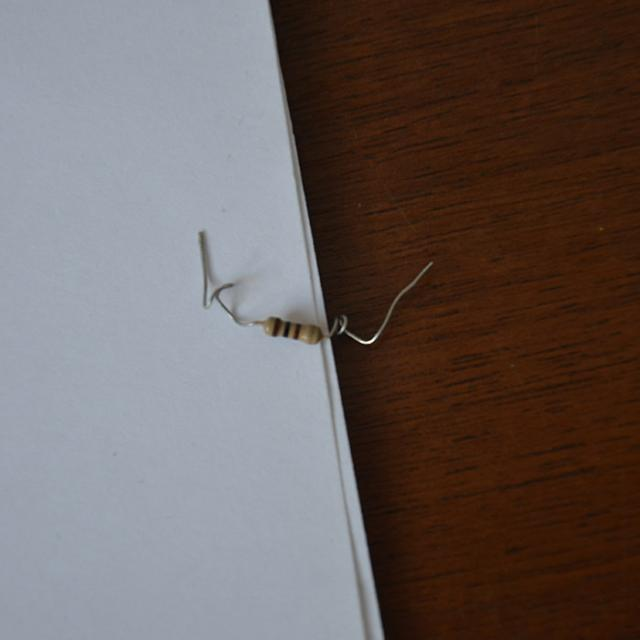Resistor Carbon-Film: (264, 311, 330, 349)
